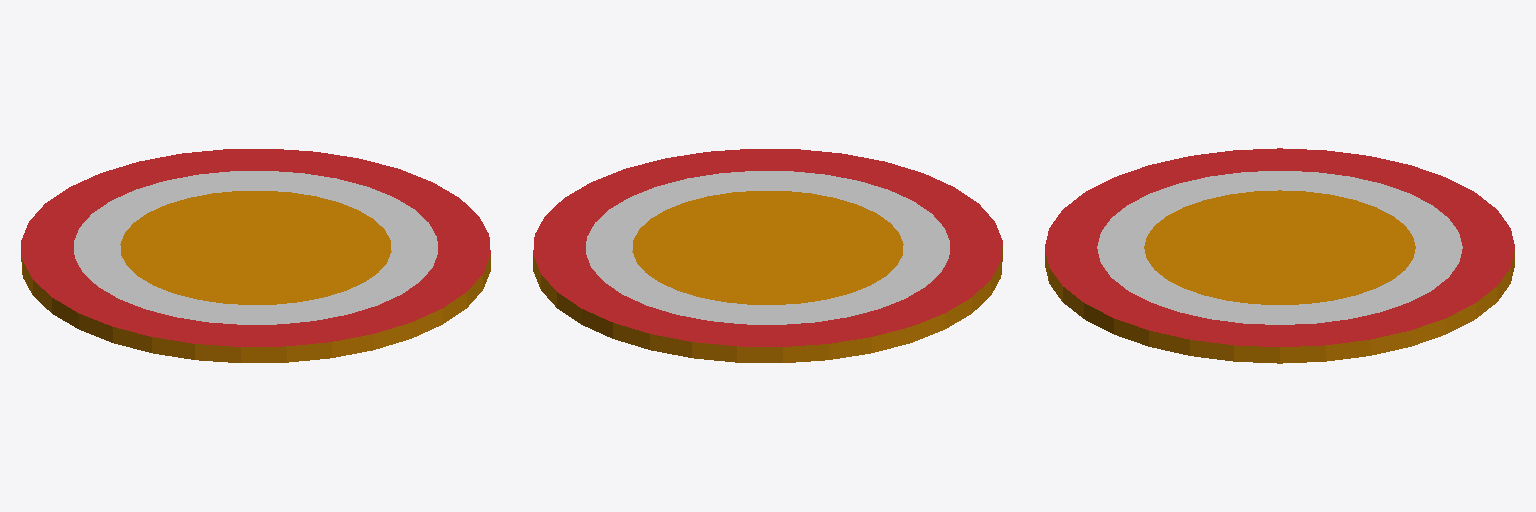
File: Target.obj
3 views of the same model, side by side, from view 1: azimuth 30°, elevation 25°; view 2: azimuth 150°, elevation 25°; view 3: azimuth 270°, elevation 25° (orthographic).
Visible parts, largest first — view 1: Cylinder; view 2: Cylinder; view 3: Cylinder.
Part boxes in pixels (x1,y1,x2,y2): Cylinder: (21,149,490,362); Cylinder: (533,149,1002,362); Cylinder: (1045,148,1514,363).
Bounding box in the file's own units: 7.54 × 0.2881 × 7.54.